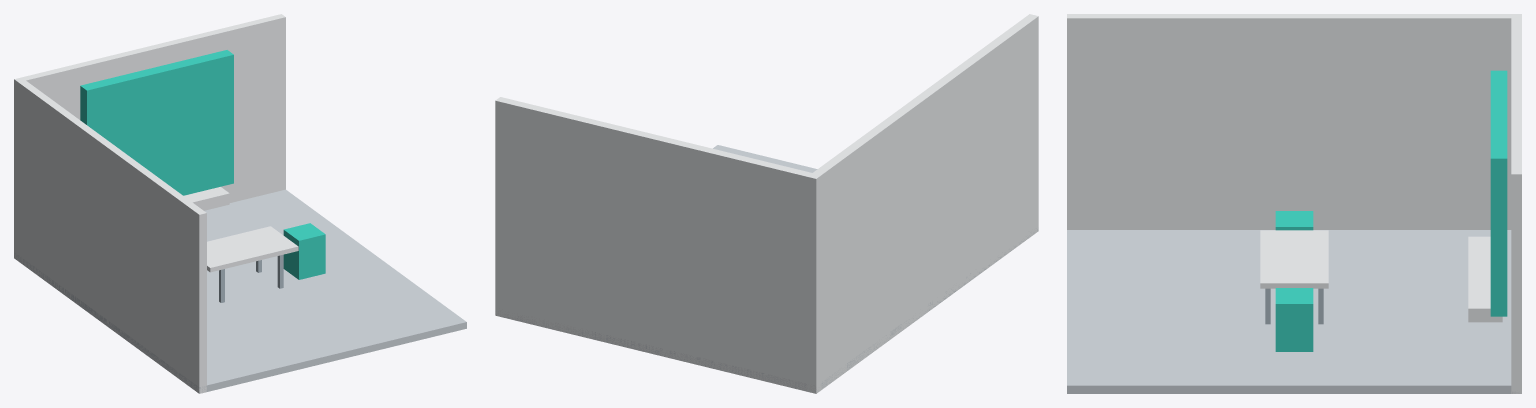
The picture shows the model from 3 angles, left to right: view 1: azimuth 30°, elevation 25°; view 2: azimuth 150°, elevation 25°; view 3: azimuth 270°, elevation 25°; orthographic projection. The views are drawn at different scales.
Parts seen in each view (by area): view 1: Exhibition Booth Concept; view 2: Exhibition Booth Concept; view 3: Exhibition Booth Concept.
Boxes of the visible parts, bbox=[...] form: Exhibition Booth Concept: bbox=[14, 14, 466, 393]; Exhibition Booth Concept: bbox=[495, 14, 1038, 393]; Exhibition Booth Concept: bbox=[1067, 14, 1521, 393].
Size of the model in its own units: 5 by 3.2 by 6.
